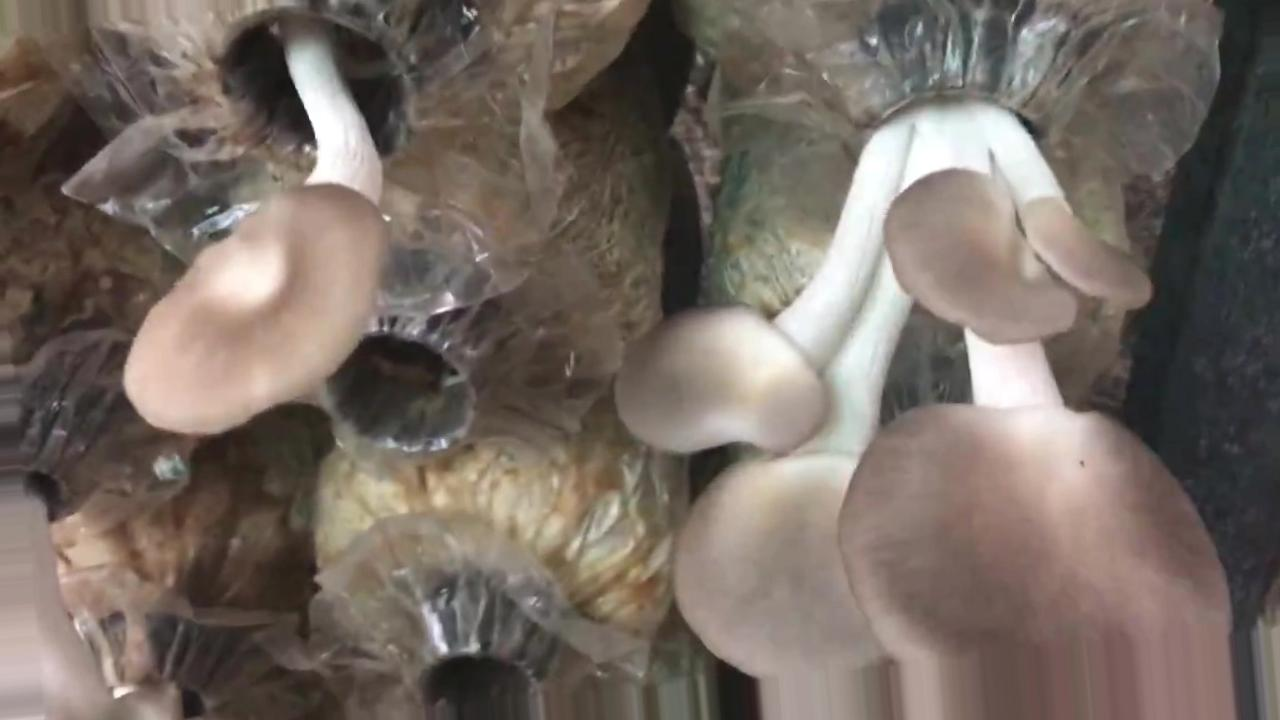nam: (610, 9, 1236, 720), (122, 1, 438, 439)
